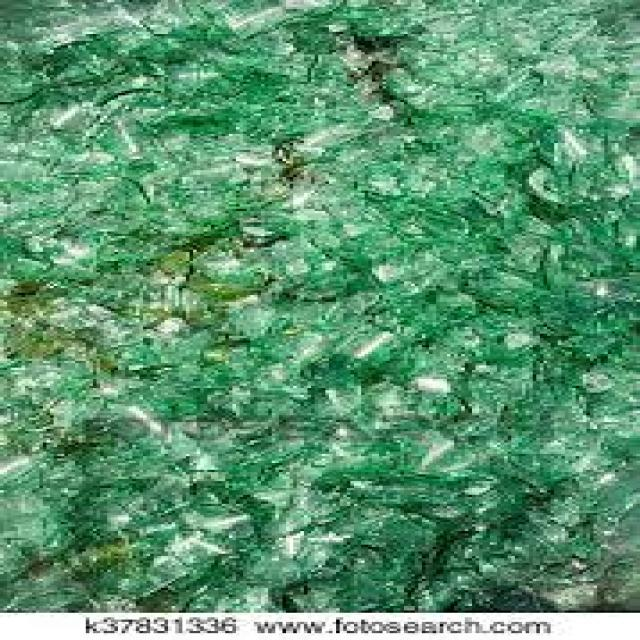glass: (0, 0, 636, 610), (129, 148, 636, 472), (365, 225, 636, 477), (208, 138, 587, 277), (336, 62, 637, 205), (0, 393, 204, 602), (104, 409, 379, 545), (0, 105, 197, 289), (408, 477, 637, 604), (150, 0, 429, 100), (47, 270, 243, 402), (175, 18, 343, 141), (383, 11, 637, 84), (0, 0, 161, 102), (379, 545, 636, 606)
